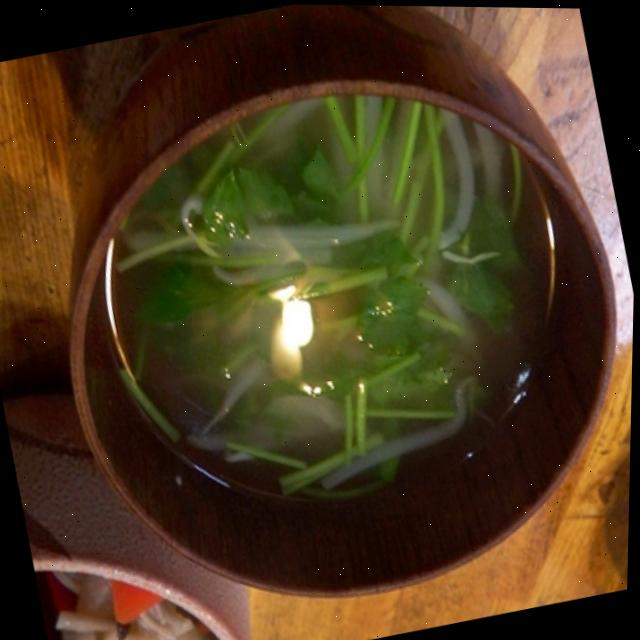汤锅炖物: (28, 35, 633, 637)
